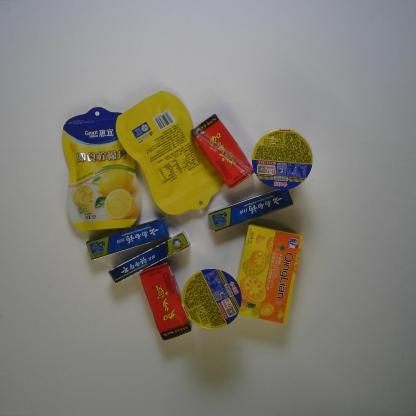Dessert: (232, 222, 305, 326)
Dried Fruit: (114, 90, 226, 216), (60, 104, 144, 233)
Drink: (190, 112, 255, 190), (139, 260, 194, 342)
Instant Noodles: (250, 127, 316, 192), (184, 267, 244, 331)
Personal Hygiene: (107, 231, 193, 286), (205, 187, 296, 233), (84, 214, 170, 262)
